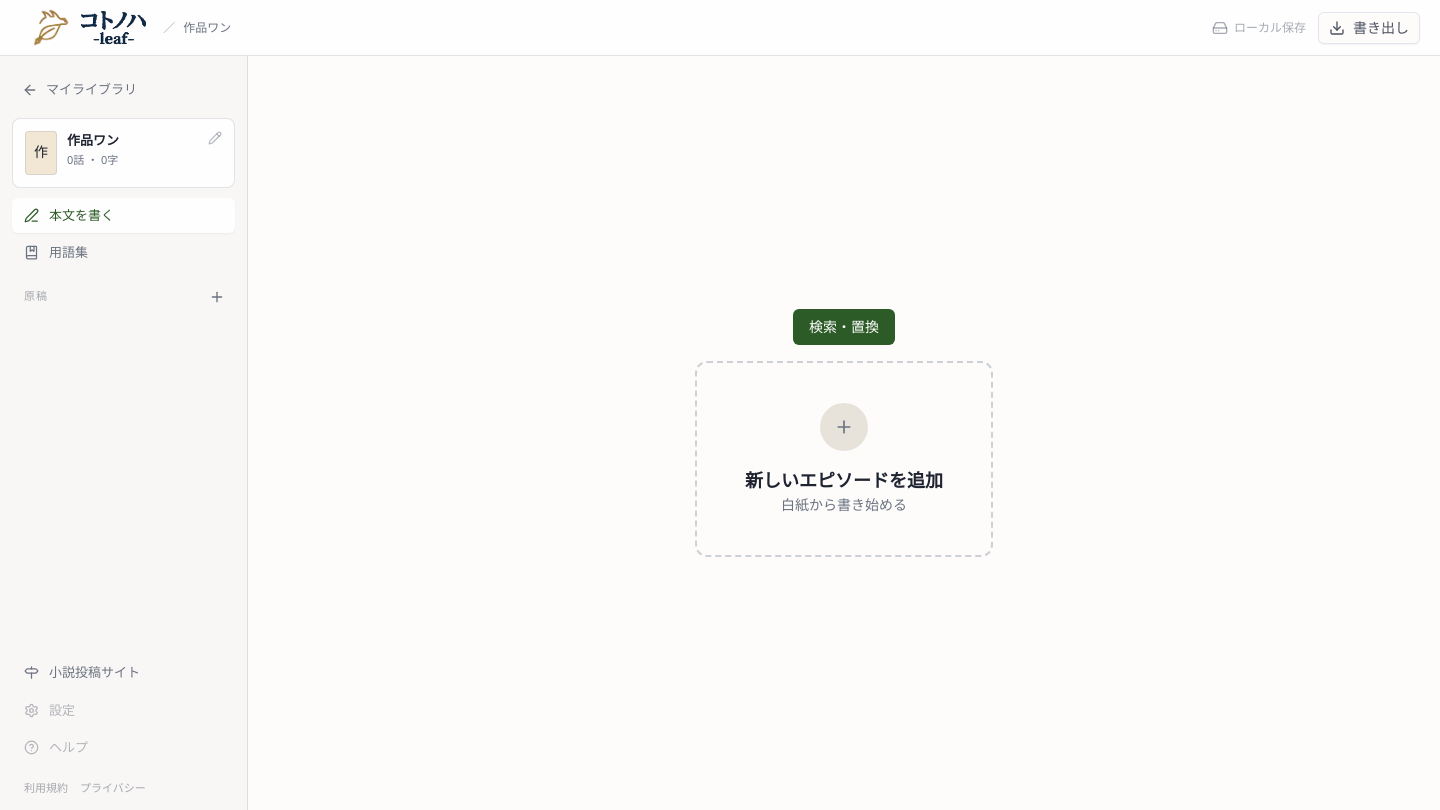
Test: App（エディタ結合：本文/プレビュー・自動保存・履歴） › 「新しいエピソード」ダイアログで話を作成しサブリストに表示
Step 1. Click the button named "新しいエピソード" → [217, 296], box [205,284,229,308]
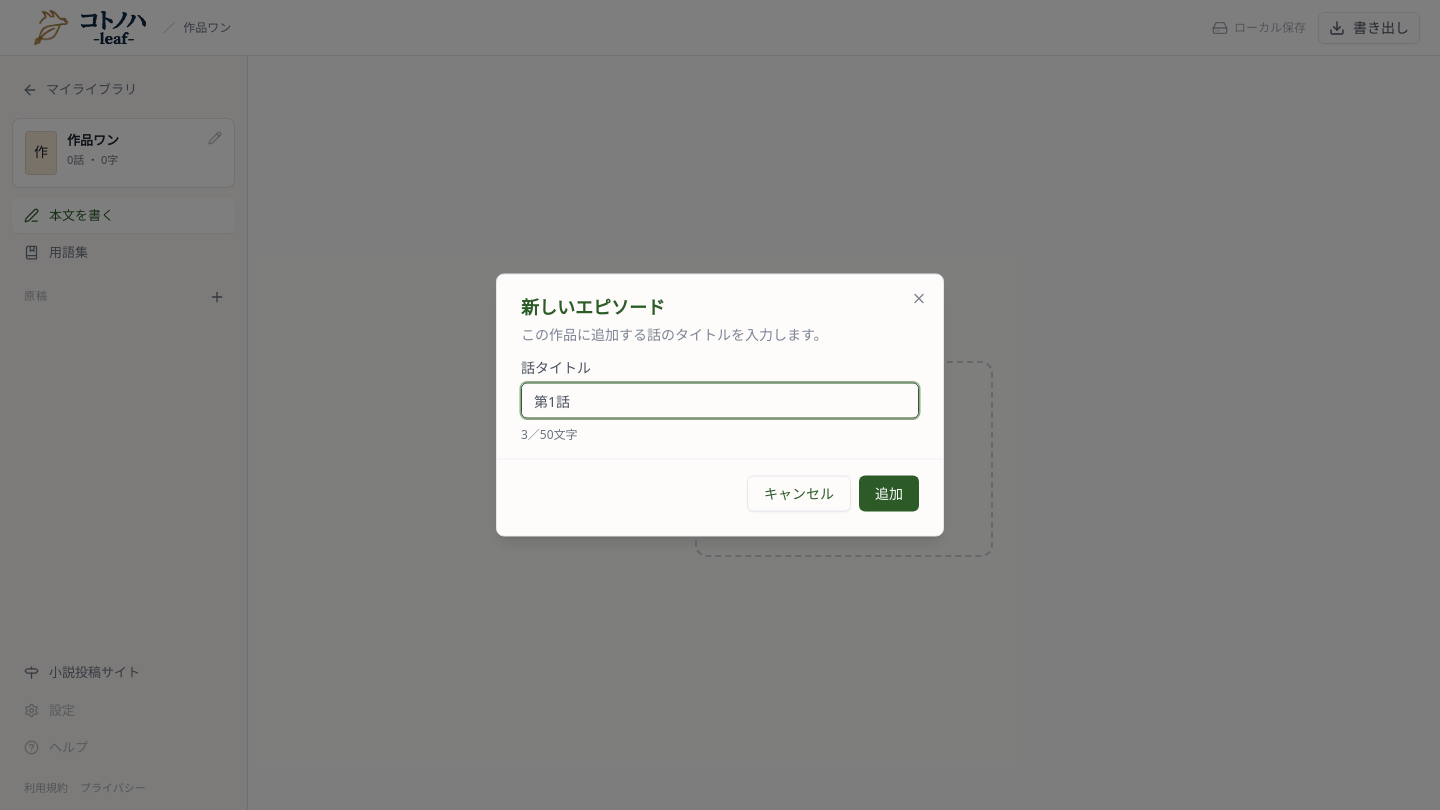
Step 2. Type "序章" into the field labelled "話タイトル" → [720, 400], box [521,382,919,418]
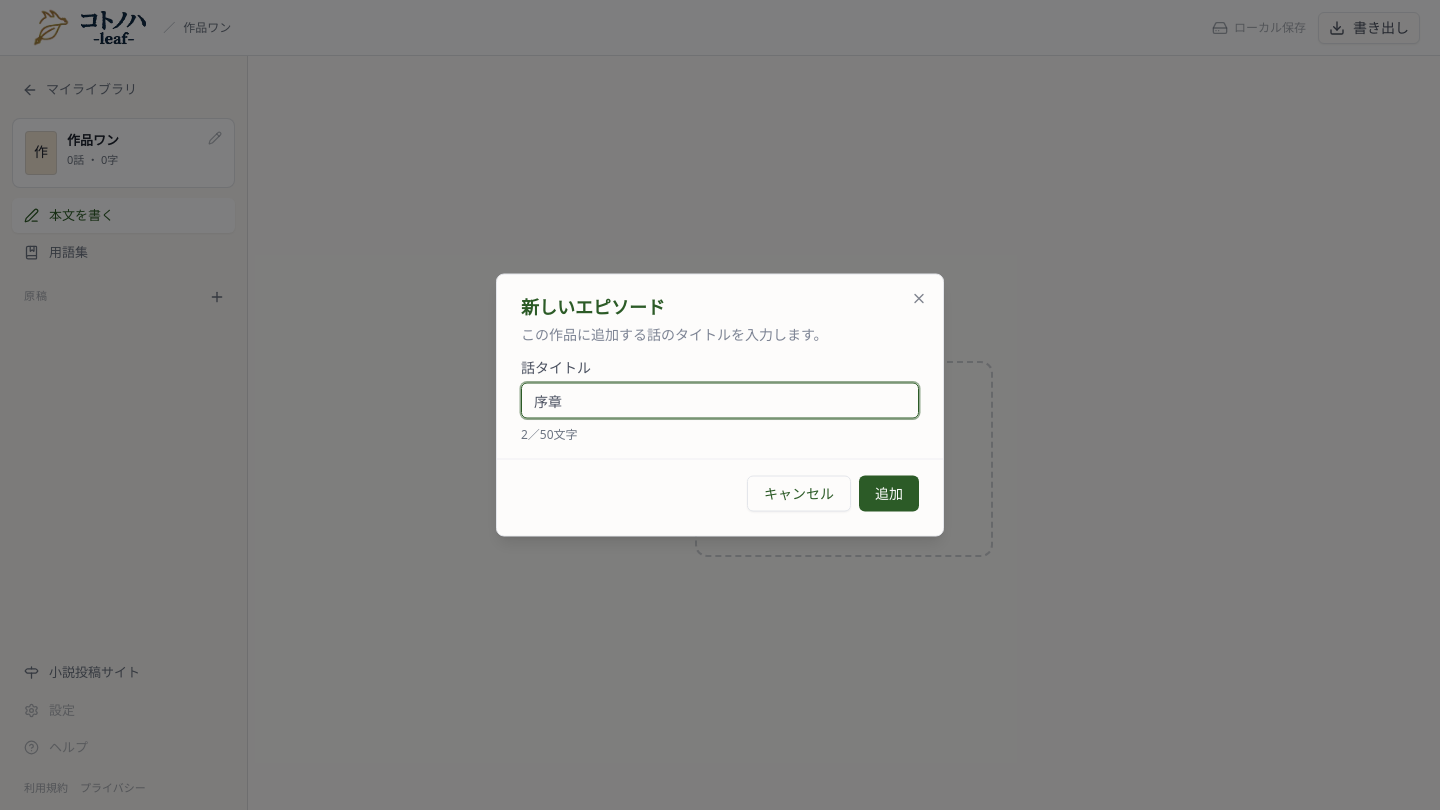
Step 3. Click the button "追加" → [889, 494], box [859,476,919,512]
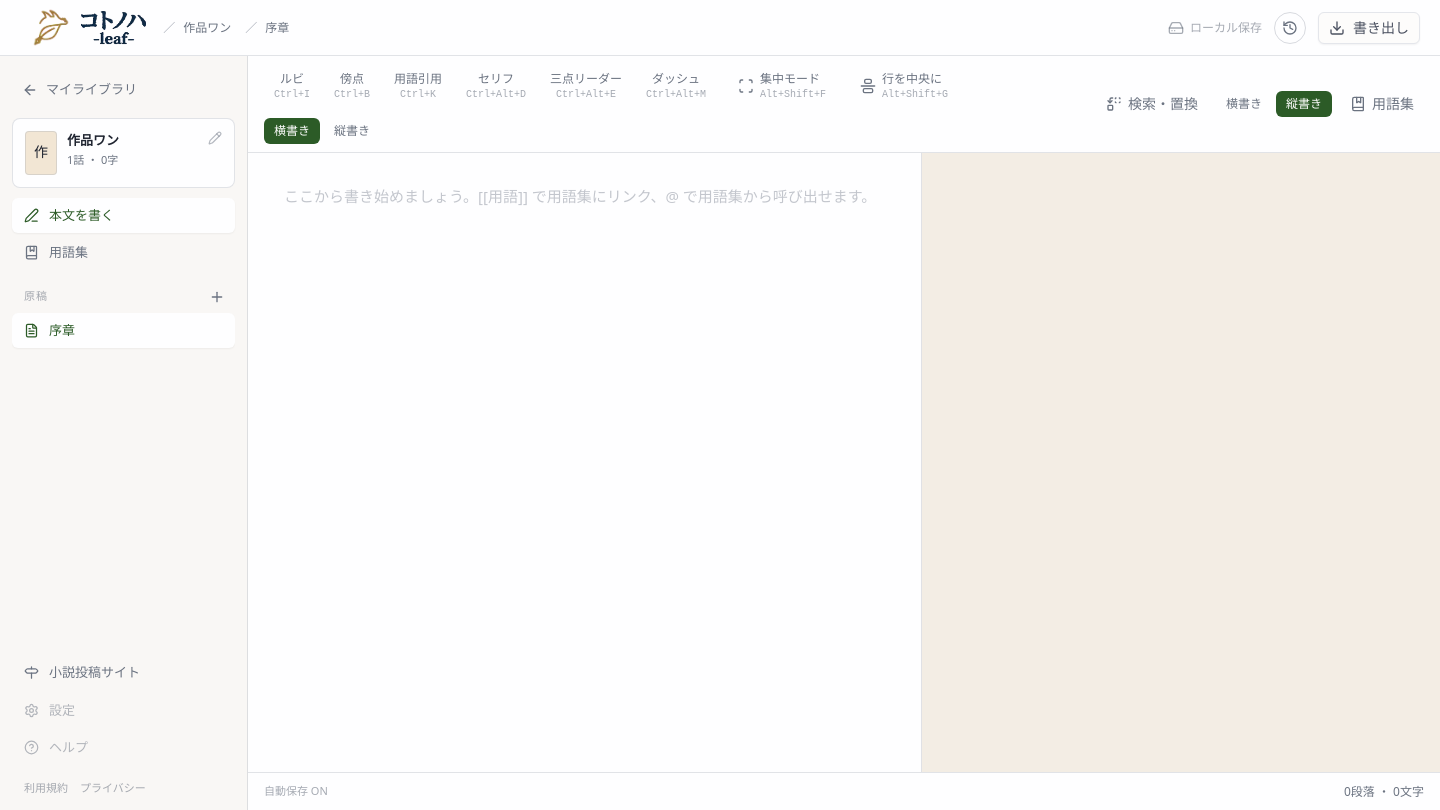
Expected: the button "序章" is shown, [12,312,235,348]
